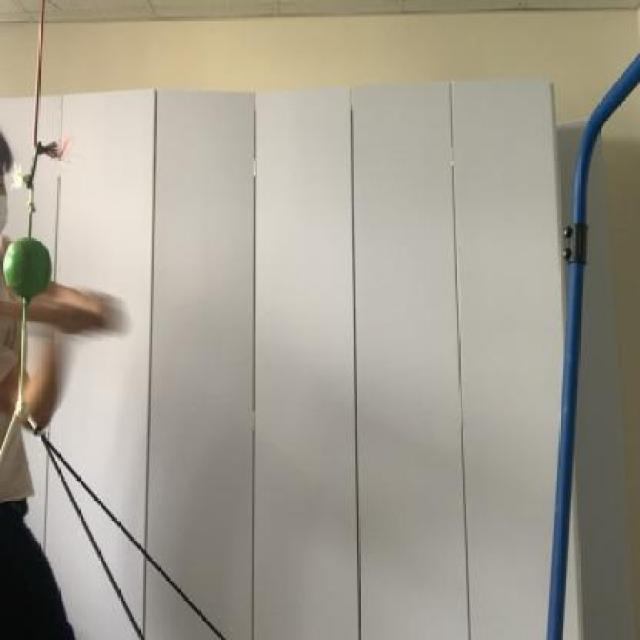baseball: (0, 229, 55, 298)
